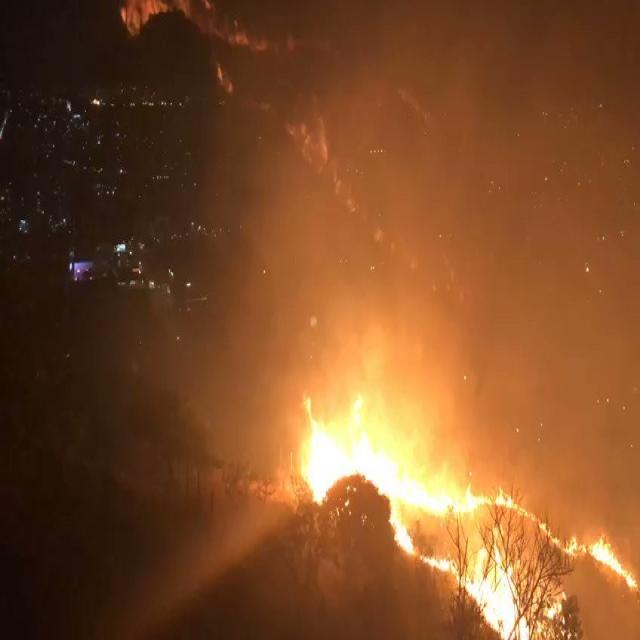Fire: (295, 401, 529, 559), (422, 542, 539, 640), (582, 530, 636, 590), (534, 513, 580, 560), (385, 510, 421, 557), (494, 483, 526, 520), (544, 598, 562, 618)
Smoke: (142, 9, 636, 623)
